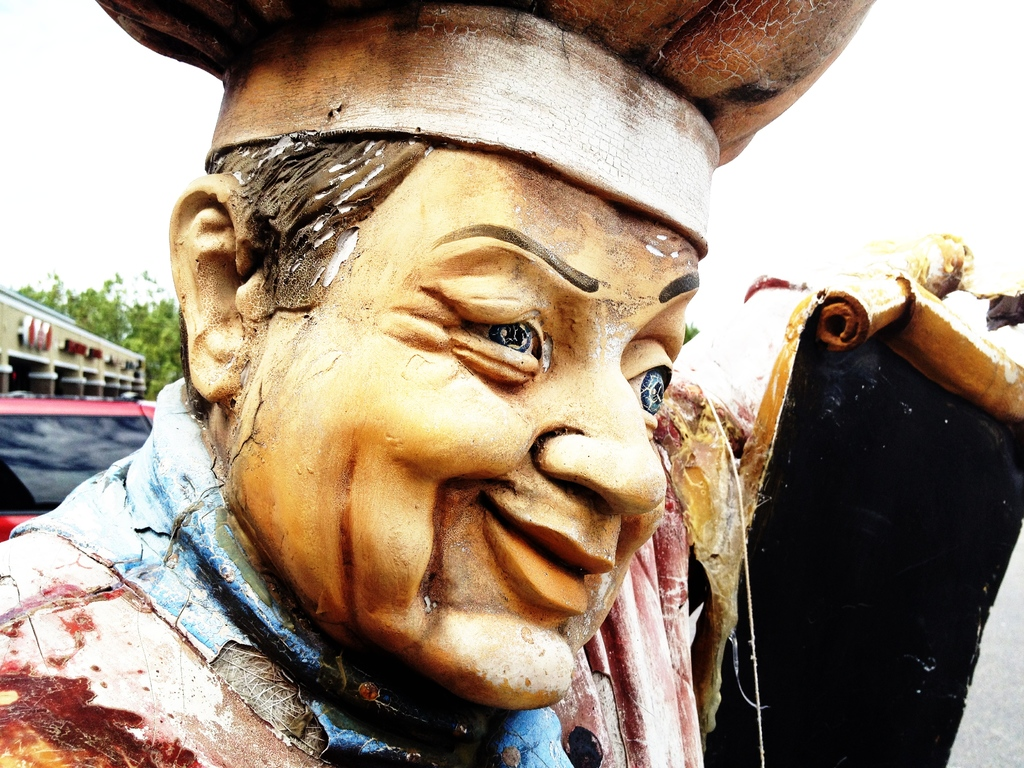Human-face: (230, 154, 704, 709)
